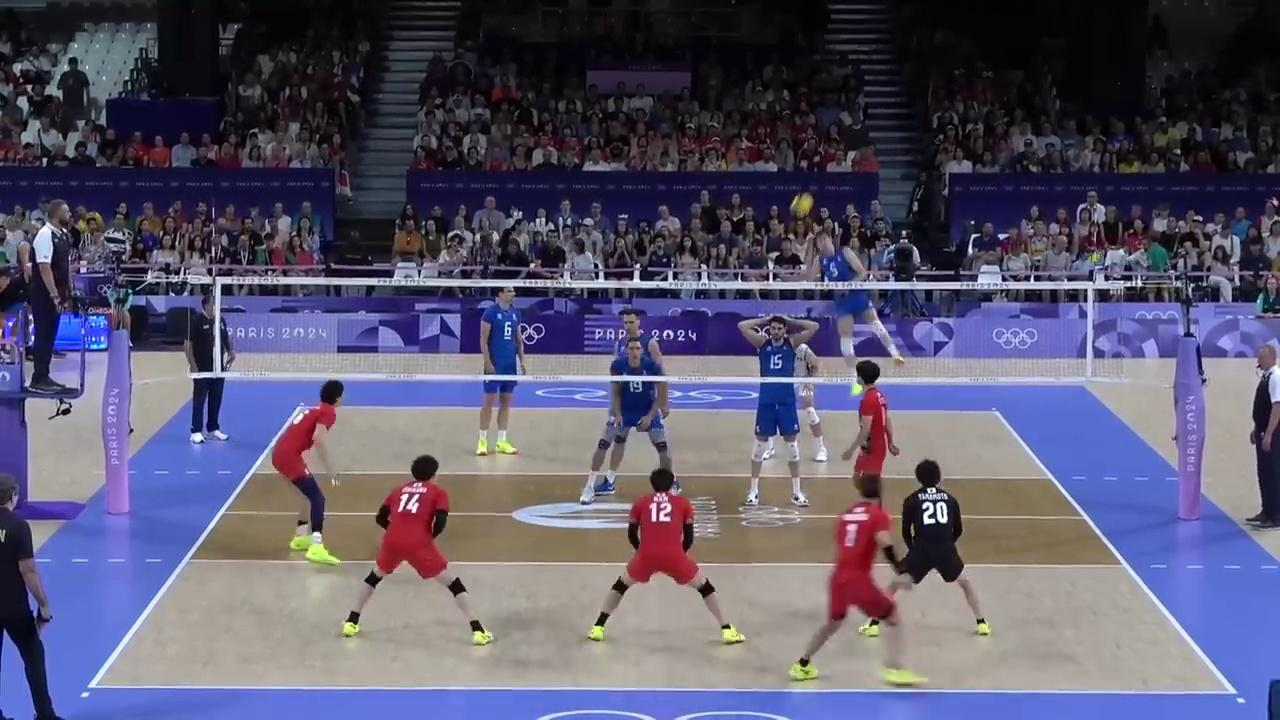ball: (789, 192, 813, 217)
